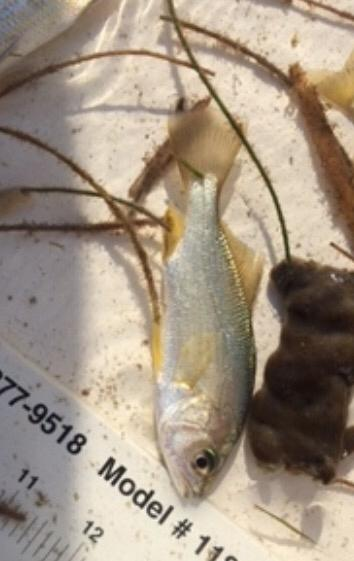Silver Perch: (131, 120, 260, 499)
